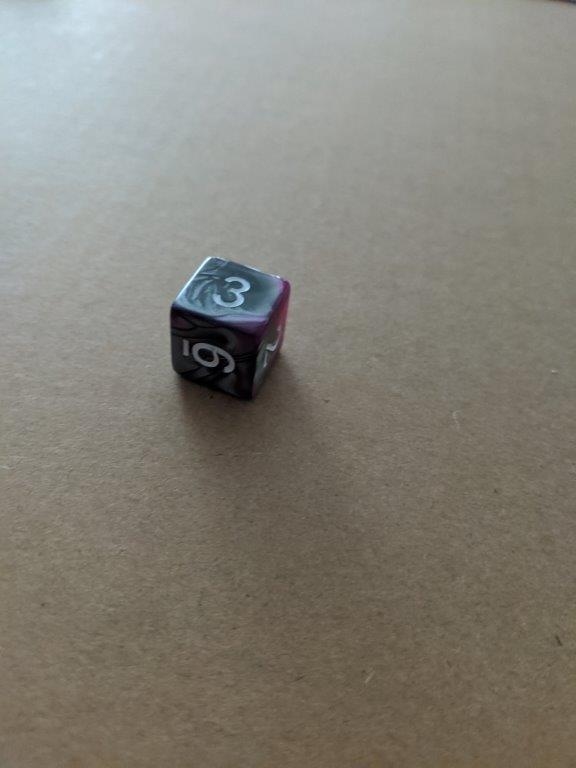d6-3: (166, 254, 292, 404)
